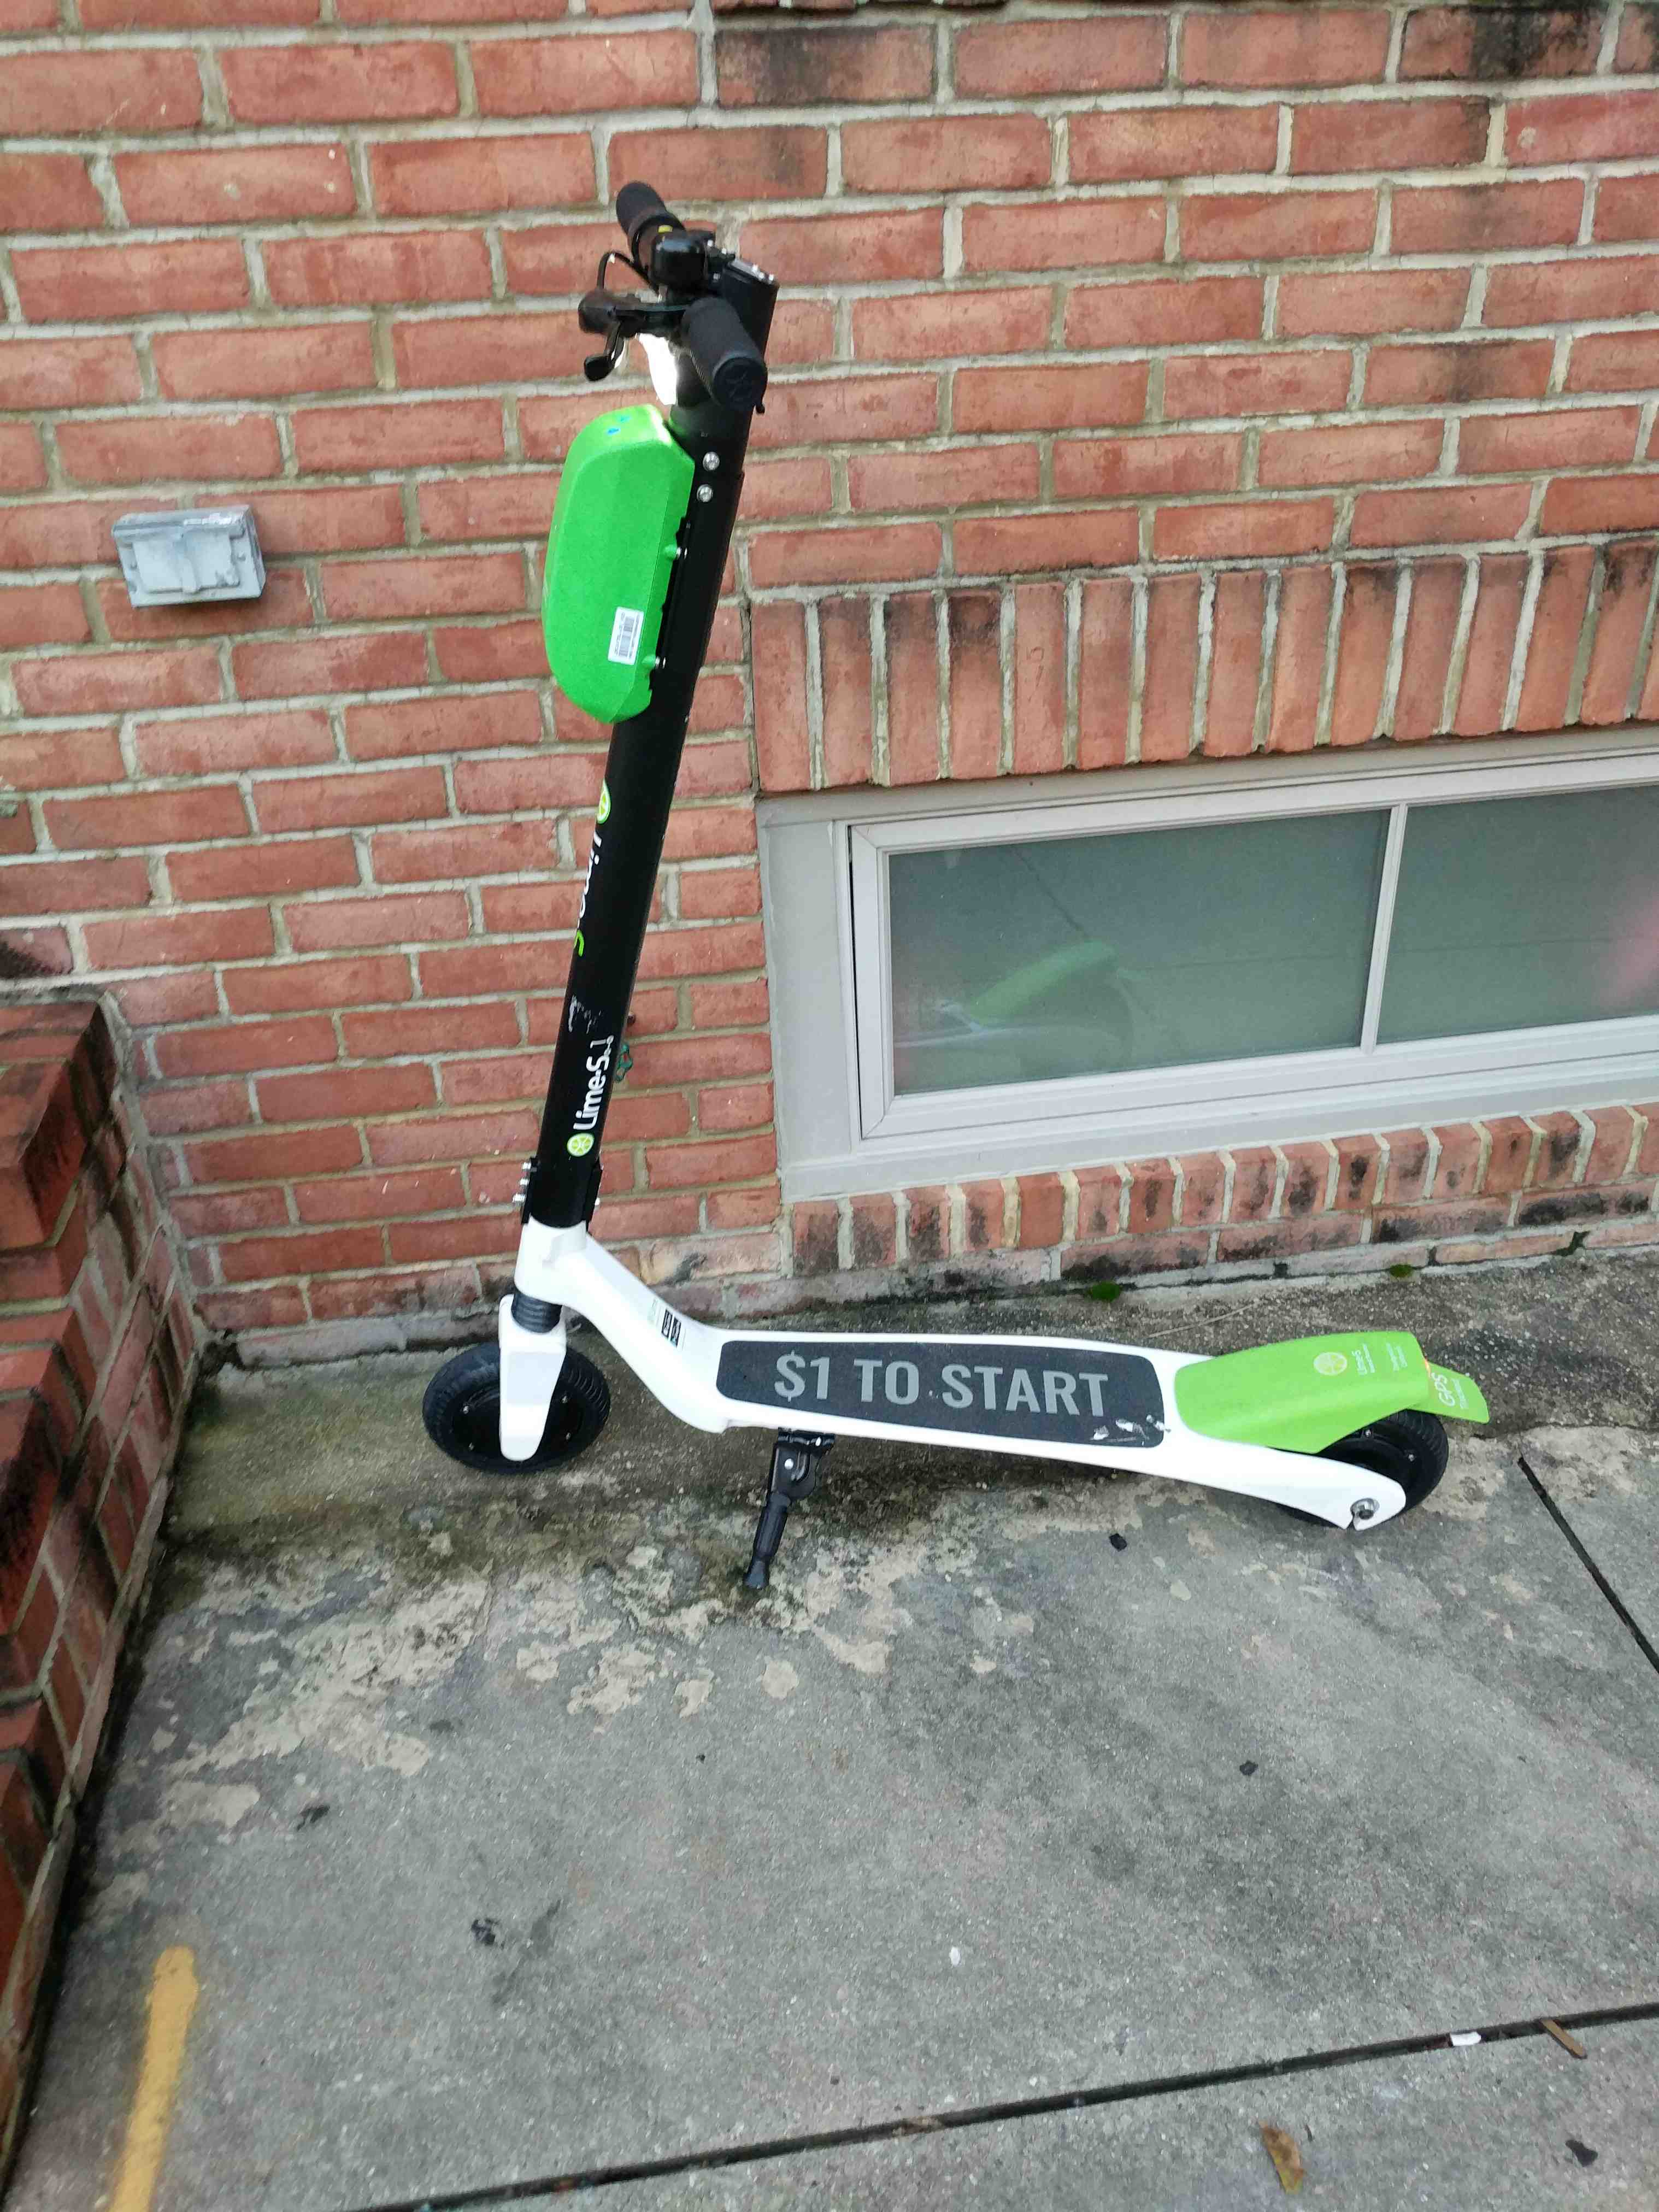scooter: (380, 160, 1523, 1590)
